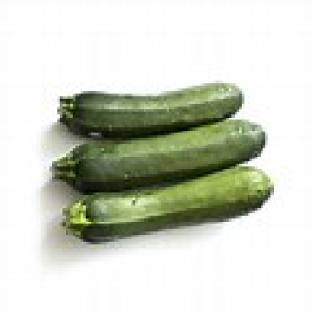Zucchini: (63, 167, 273, 241), (52, 120, 265, 192), (60, 84, 241, 137)
